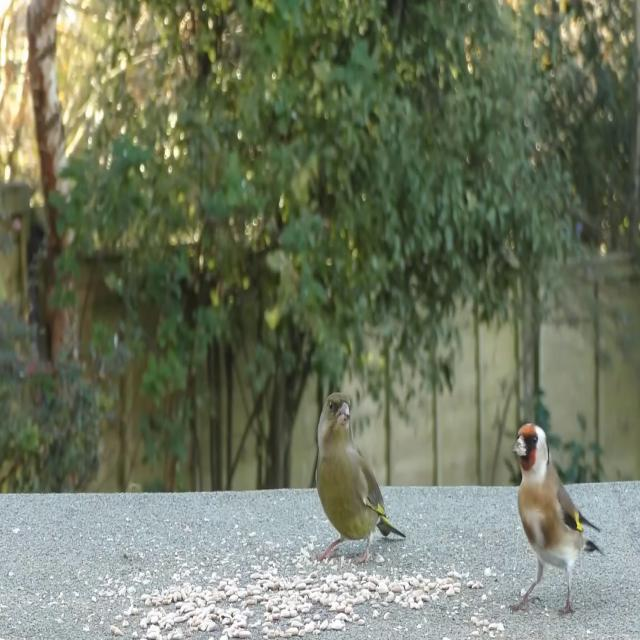beak: (514, 431, 528, 464), (336, 398, 351, 428)
bird: (512, 420, 602, 622), (312, 393, 408, 566)
